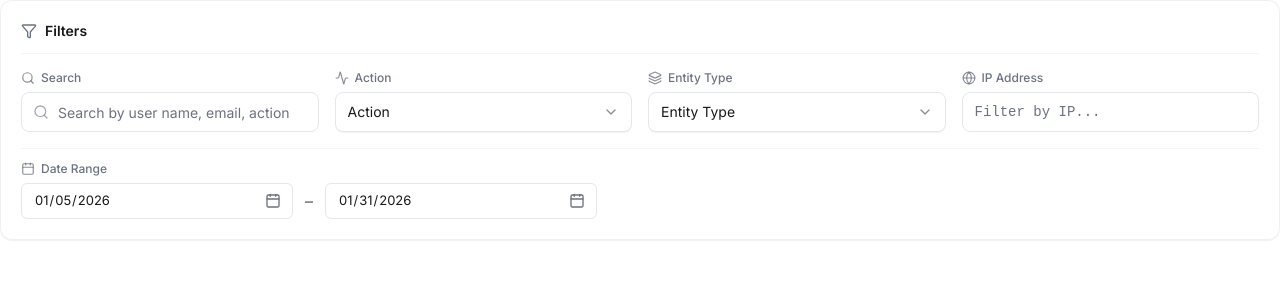
Test case: AuditLogFilters › shows the inline error and keeps the values for an inverted range
In the date field named "From": (157, 201) x1=21 y1=183 x2=293 y2=219, type "2026-03-01"
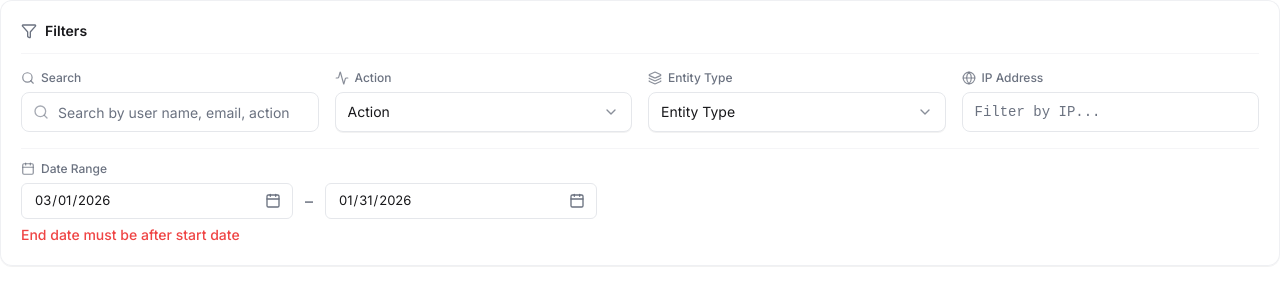
expect the date field named "To" holds "2026-01-31": met, box x1=325 y1=183 x2=597 y2=219
expect the message reads "End date must be after start date": met, box x1=21 y1=226 x2=240 y2=243
